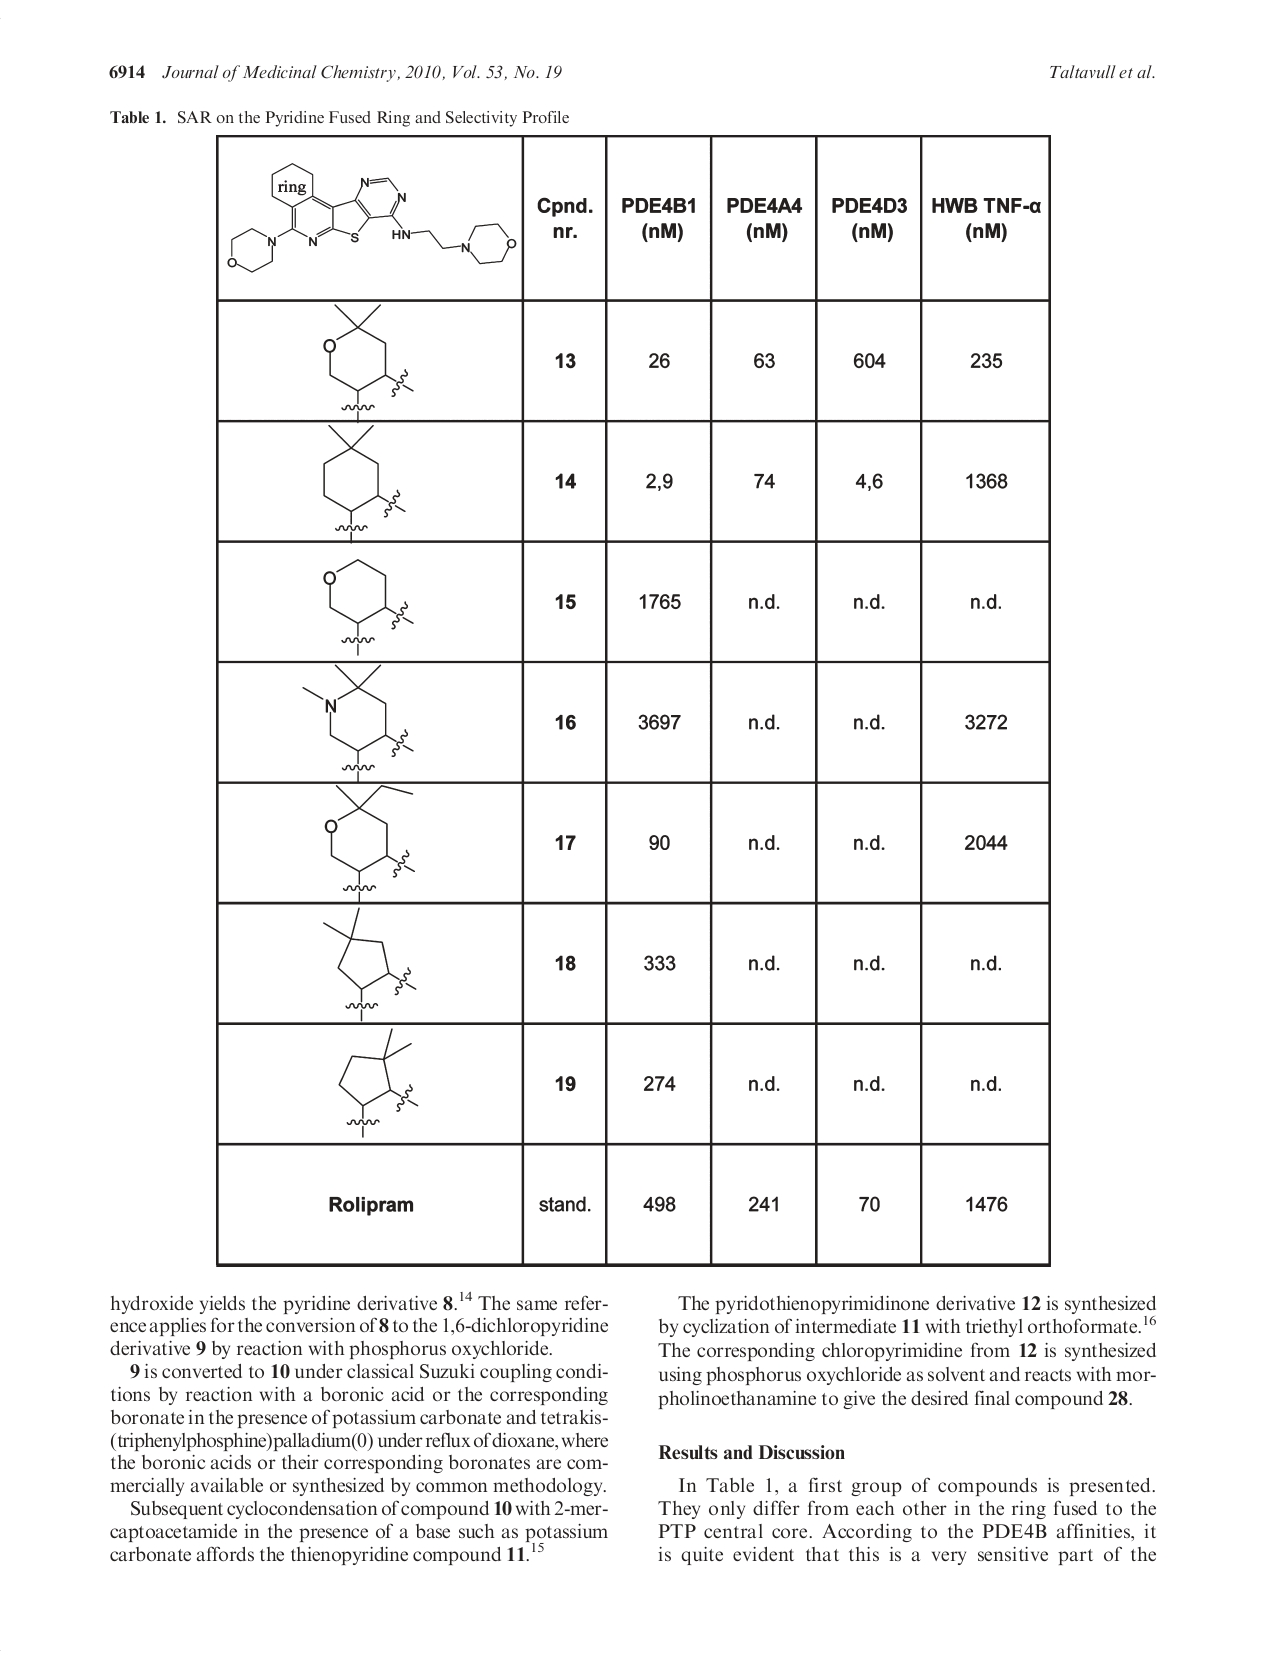exist_molecular: (225, 162, 519, 274), (302, 664, 416, 781), (320, 783, 418, 902), (320, 907, 418, 1023), (320, 302, 414, 422), (319, 423, 410, 543), (336, 1025, 418, 1138), (324, 559, 416, 657)
